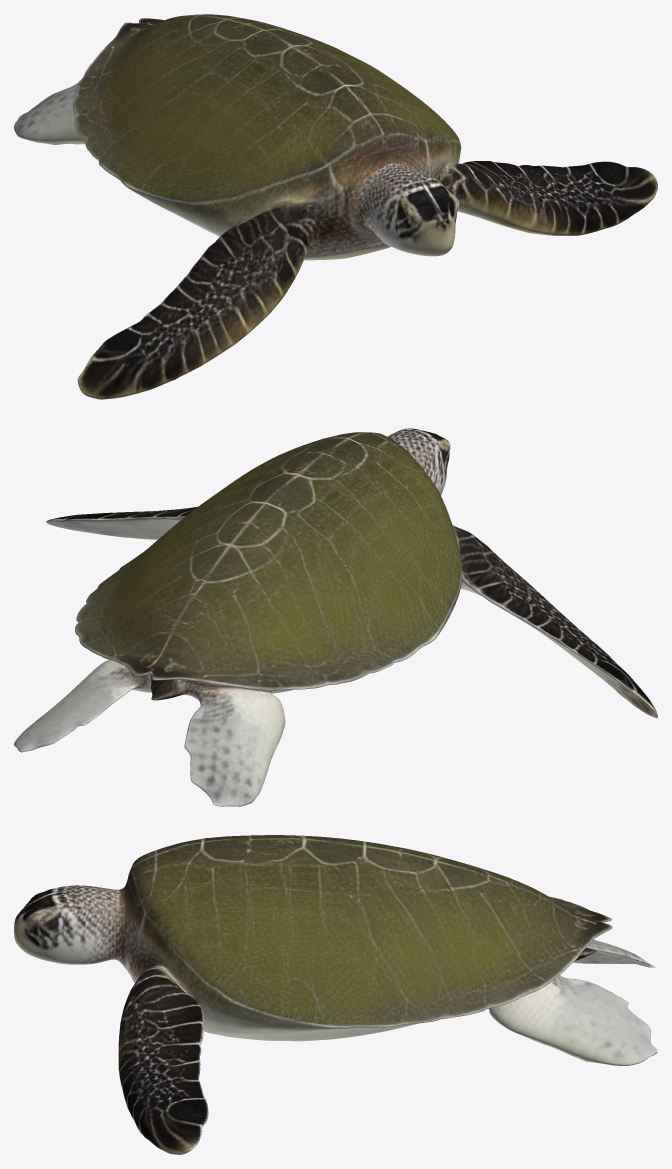
The model's file is turtle_walking.glb.
3 renders of one model, top to bottom at view 1: azimuth 30°, elevation 25°; view 2: azimuth 150°, elevation 25°; view 3: azimuth 270°, elevation 25°, orthographic.
Parts seen in each view (by area): view 1: model; view 2: model; view 3: model.
Boxes of the visible parts, box(x1,y1,x2,y2) form: model: box(14, 14, 657, 399); model: box(14, 428, 657, 806); model: box(14, 835, 657, 1154).
Size of the model in its own units: 1.9 by 0.7089 by 1.81.
Materials: 1 (1 with a texture image).
